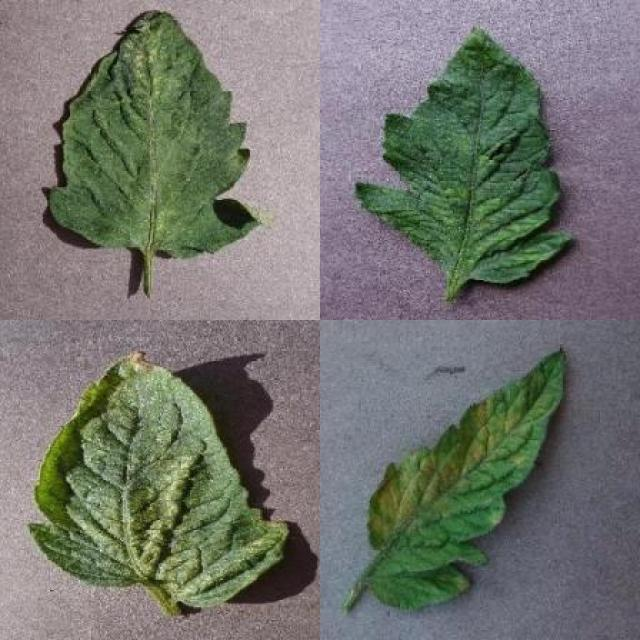Leaf Mold: (368, 348, 566, 611)
Mosaic Virus: (357, 24, 573, 282)
Spider Mites: (27, 351, 289, 608), (47, 10, 267, 260)
